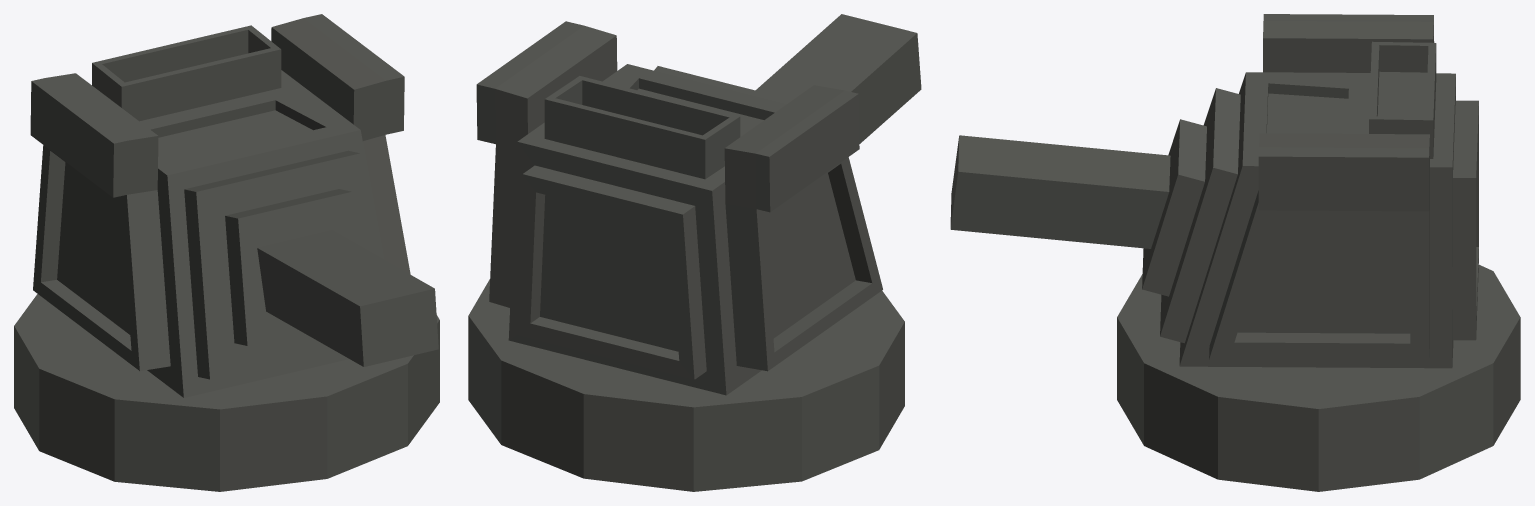
The model's file is Weapon3.fbx.
3 views of the same model, side by side, from view 1: azimuth 30°, elevation 25°; view 2: azimuth 150°, elevation 25°; view 3: azimuth 270°, elevation 25° (orthographic). The views are drawn at different scales.
Visible parts, largest first — view 1: Weapon2New2; view 2: Weapon2New2; view 3: Weapon2New2.
Boxes of the visible parts, <box> form: Weapon2New2: <box>14,14,439,491</box>; Weapon2New2: <box>468,14,921,491</box>; Weapon2New2: <box>950,14,1520,491</box>.
Bounding box in the file's own units: 49.62 × 40.2 × 64.97.
